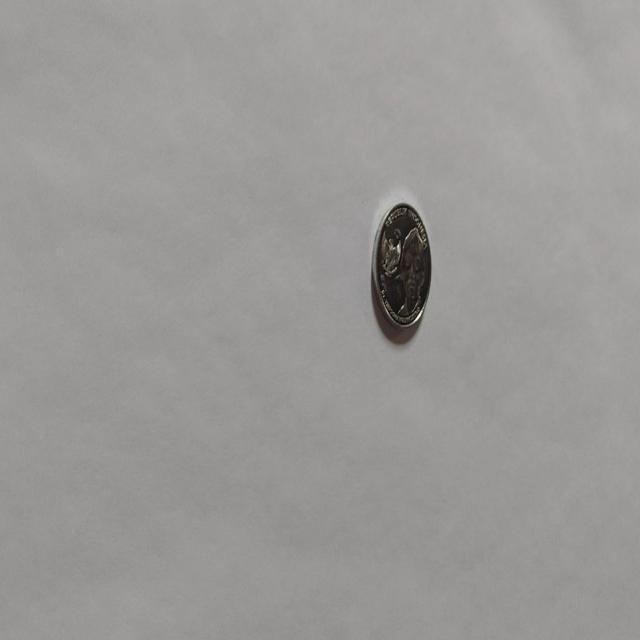dua ratus rupiah: (370, 200, 432, 334)
